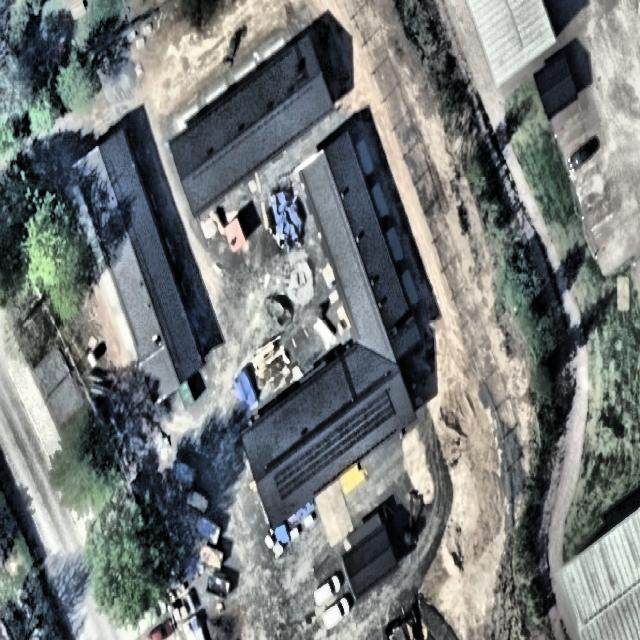roof_pv: (343, 389, 404, 446), (264, 456, 312, 508), (300, 432, 349, 479)
